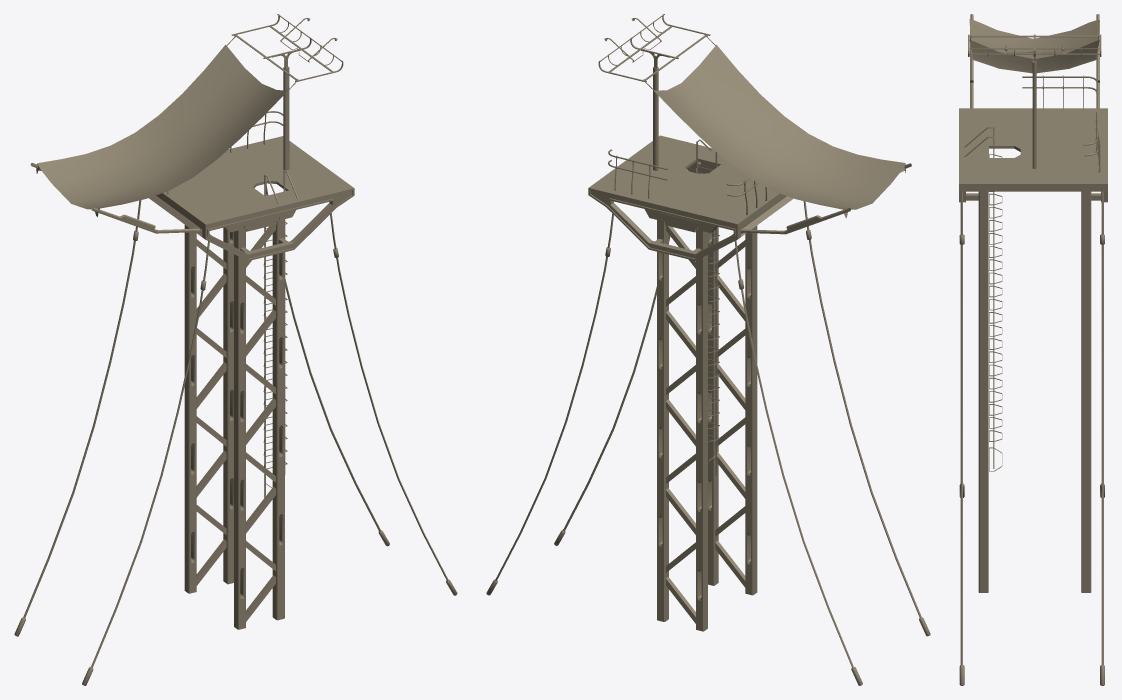
Rendered from savHubTower.fbx.
3 renders of one model, left to right at view 1: azimuth 30°, elevation 25°; view 2: azimuth 150°, elevation 25°; view 3: azimuth 270°, elevation 25°, orthographic. The views are drawn at different scales.
Parts seen in each view (by area): view 1: savHubTower_LOD0; view 2: savHubTower_LOD0; view 3: savHubTower_LOD0.
Boxes of the visible parts, x1,y1,x2,y2 form: savHubTower_LOD0: [14, 14, 457, 685]; savHubTower_LOD0: [486, 14, 930, 685]; savHubTower_LOD0: [959, 14, 1107, 685].
Size of what is drawn, in the model's own units: 1518 by 2191 by 501.
